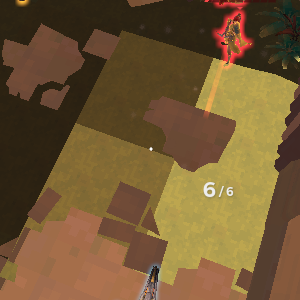model: (211, 6, 254, 70)
